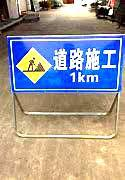sign: (8, 36, 121, 91)
